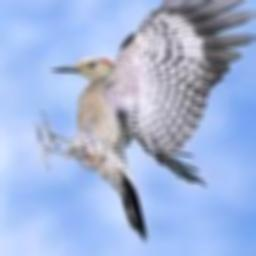Woodpecker: (33, 0, 256, 242)
